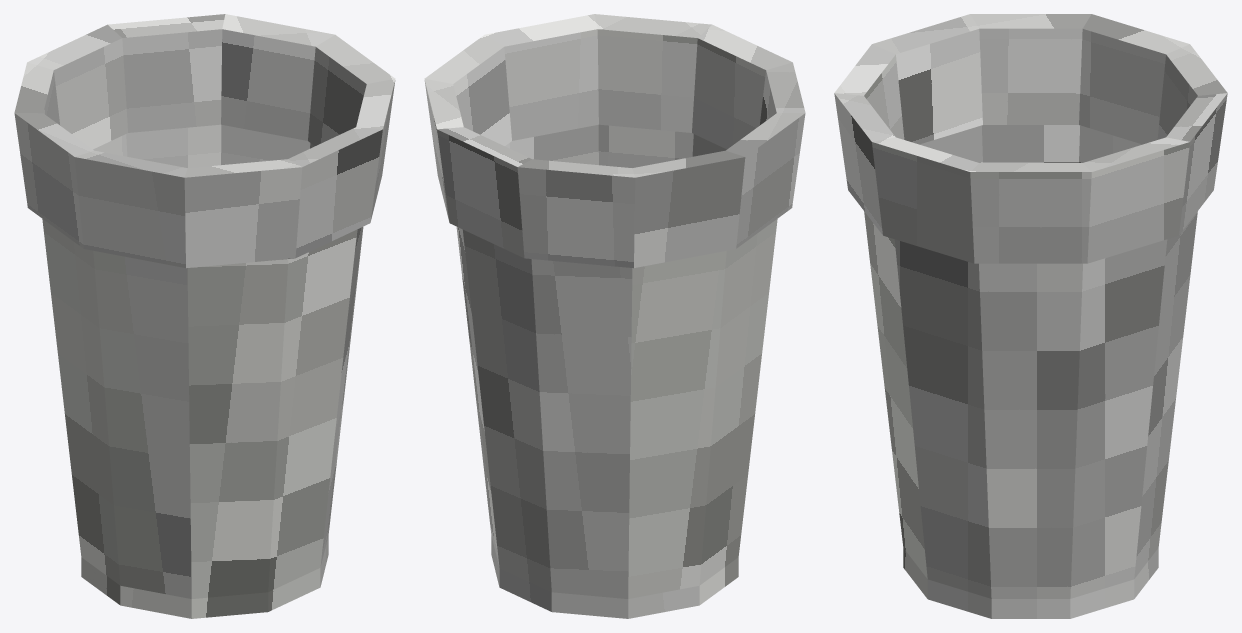
File: foam_cup.glb
3 renders of one model, left to right at view 1: azimuth 30°, elevation 25°; view 2: azimuth 150°, elevation 25°; view 3: azimuth 270°, elevation 25°, orthographic.
Visible parts, largest first — view 1: Circle.002; view 2: Circle.002; view 3: Circle.002.
Boxes of the visible parts, x1,y1,x2,y2 form: Circle.002: (14, 14, 395, 618); Circle.002: (424, 14, 805, 618); Circle.002: (834, 14, 1227, 618).
Bounding box in the file's own units: 0.1288 × 0.1803 × 0.1354.
1 material, 1 textured.
